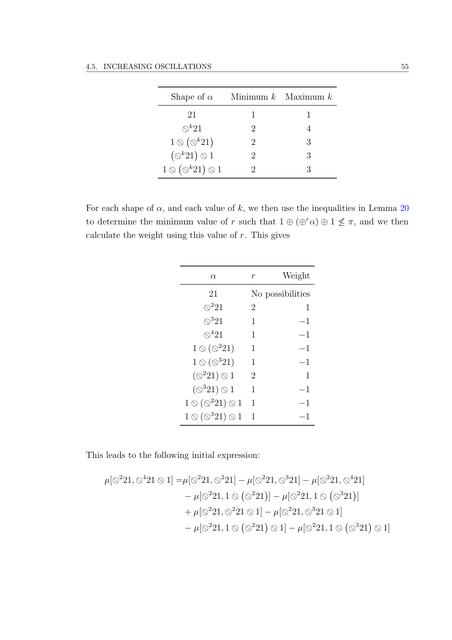box: (177, 262, 317, 428), (154, 83, 342, 182)
